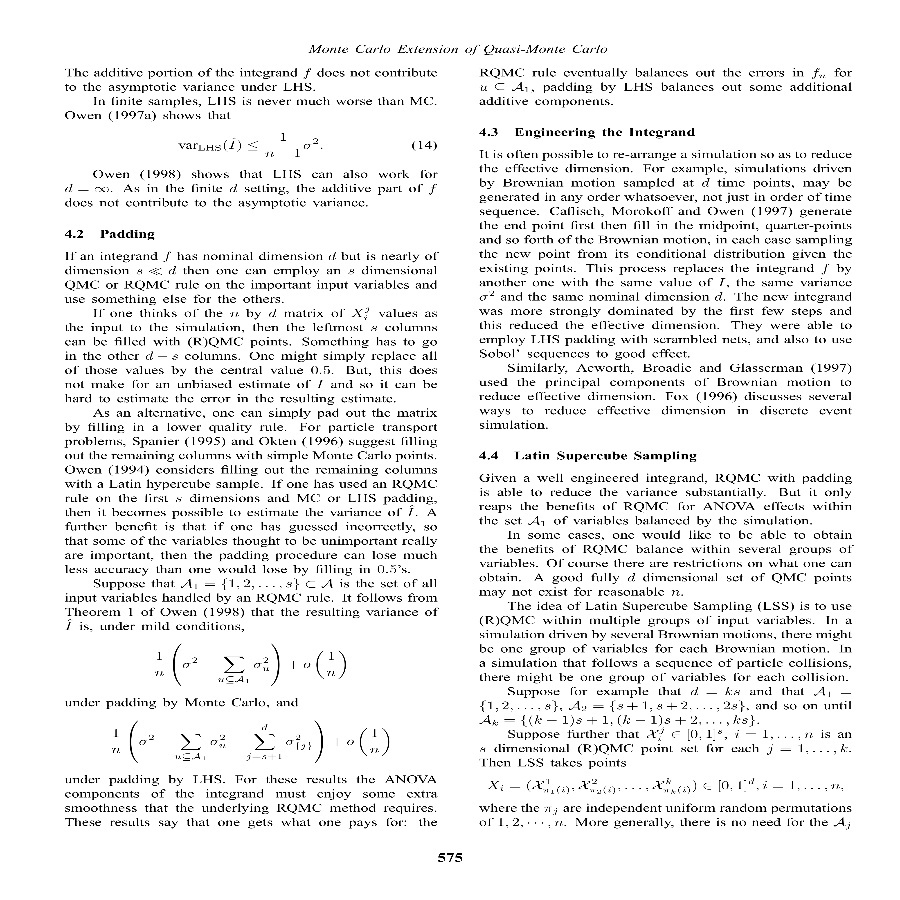eq: (110, 715, 388, 766), (153, 641, 349, 687), (487, 774, 840, 793), (173, 129, 317, 162)
